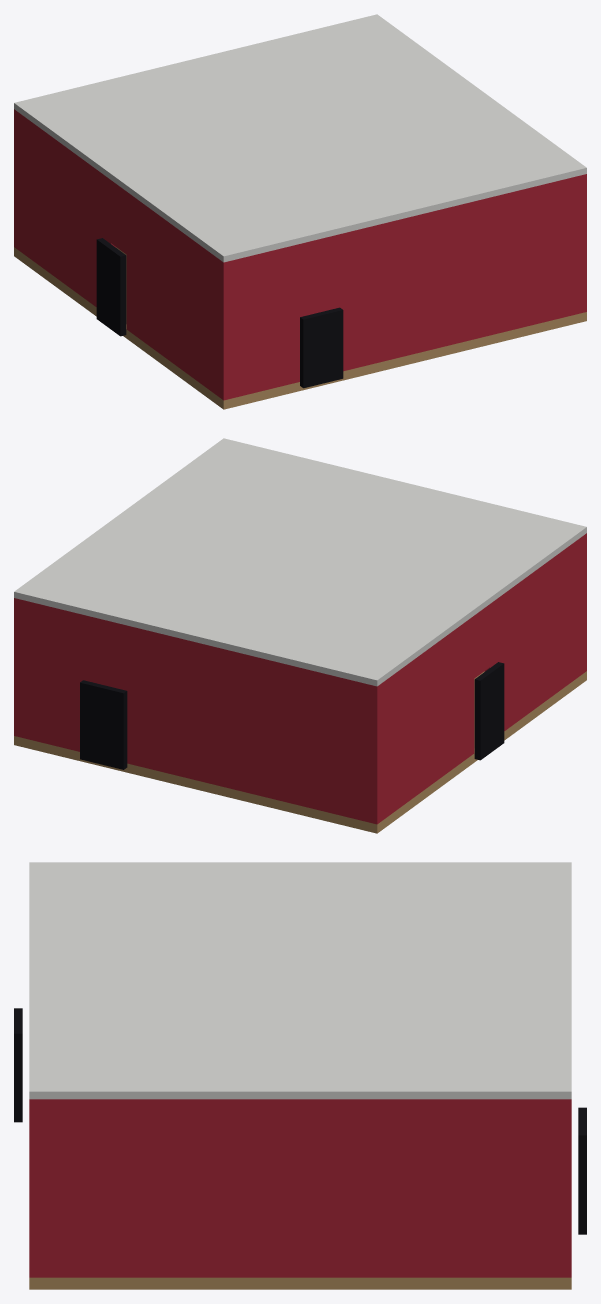
Rendered from rdwe_wrong_clock.glb.
3 renders of one model, top to bottom at view 1: azimuth 30°, elevation 25°; view 2: azimuth 150°, elevation 25°; view 3: azimuth 270°, elevation 25°, orthographic. The views are drawn at different scales.
Visible parts, largest first — view 1: Room_Ceiling, Room_Wall_S_3, Room_Wall_W_3, Room_Wall_W_1, Room_Wall_S_1, Room_Floor, Beyond_waiting, Beyond_gallery, Room_Wall_S_2, Room_Wall_W_2, Room_Wall_N_1; view 2: Room_Ceiling, Room_Wall_N_1, Room_Wall_W_1, Room_Wall_W_3, Room_Wall_N_3, Room_Floor, Beyond_hands, Beyond_gallery, Room_Wall_N_2, Room_Wall_W_2, Room_Wall_S_1; view 3: Room_Ceiling, Room_Wall_E_1, Room_Floor, Room_Wall_N_3, Room_Wall_S_3, Beyond_hands, Beyond_waiting.
Part boxes in pixels (bbox=[...]): Room_Ceiling: bbox=[14, 14, 586, 262]; Room_Wall_S_3: bbox=[330, 174, 586, 371]; Room_Wall_W_3: bbox=[126, 192, 220, 397]; Room_Wall_W_1: bbox=[17, 112, 116, 306]; Room_Wall_S_1: bbox=[220, 243, 304, 400]; Room_Floor: bbox=[14, 247, 586, 409]; Beyond_waiting: bbox=[300, 307, 343, 388]; Beyond_gallery: bbox=[96, 238, 126, 336]; Room_Wall_S_2: bbox=[304, 236, 330, 315]; Room_Wall_W_2: bbox=[111, 180, 126, 254]; Room_Wall_N_1: bbox=[14, 109, 17, 248]; Room_Ceiling: bbox=[14, 438, 586, 686]; Room_Wall_N_1: bbox=[123, 624, 380, 824]; Room_Wall_W_1: bbox=[380, 616, 474, 821]; Room_Wall_W_3: bbox=[484, 536, 583, 730]; Room_Wall_N_3: bbox=[14, 598, 92, 751]; Room_Floor: bbox=[14, 671, 586, 833]; Beyond_hands: bbox=[80, 680, 127, 769]; Beyond_gallery: bbox=[474, 662, 504, 760]; Room_Wall_N_2: bbox=[92, 617, 122, 689]; Room_Wall_W_2: bbox=[474, 604, 489, 678]; Room_Wall_S_1: bbox=[583, 533, 586, 672]; Room_Ceiling: bbox=[29, 862, 571, 1099]; Room_Wall_E_1: bbox=[38, 1099, 562, 1277]; Room_Floor: bbox=[29, 1277, 571, 1289]; Room_Wall_N_3: bbox=[563, 1099, 571, 1277]; Room_Wall_S_3: bbox=[29, 1099, 37, 1277]; Beyond_hands: bbox=[578, 1107, 586, 1234]; Beyond_waiting: bbox=[14, 1008, 22, 1122].
Bounding box in the file's own units: 12.75 × 5 × 13.1.
